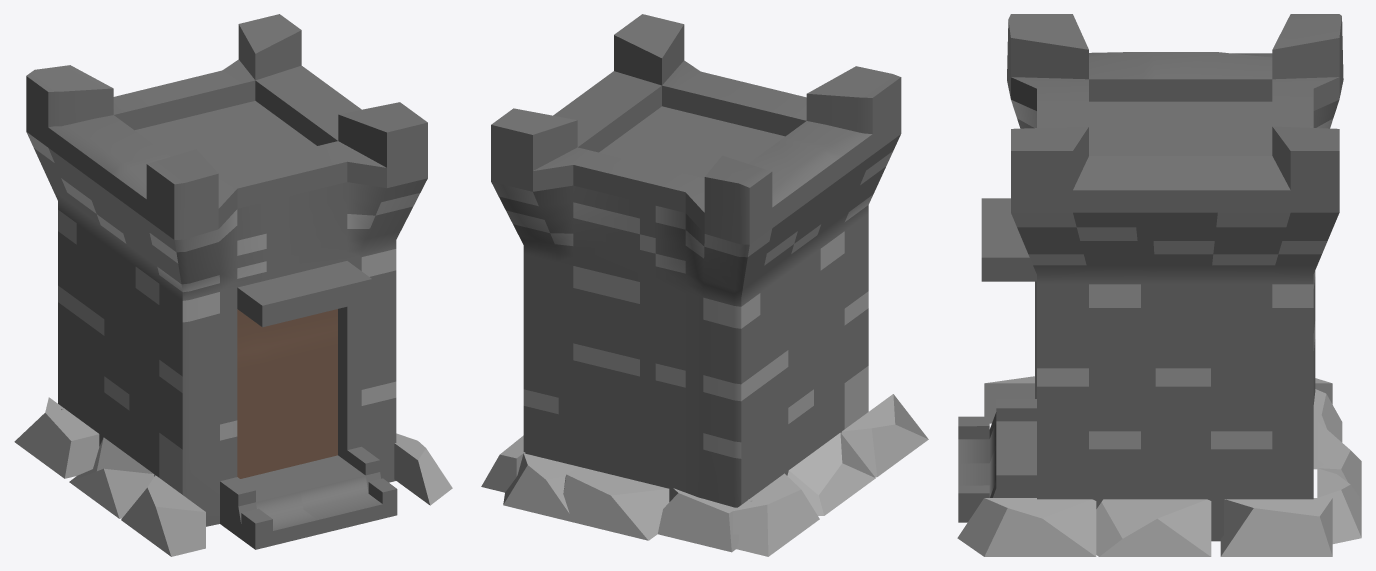
File: Building_2.fbx
The picture shows the model from 3 angles, left to right: view 1: azimuth 30°, elevation 25°; view 2: azimuth 150°, elevation 25°; view 3: azimuth 270°, elevation 25°; orthographic projection. The views are drawn at different scales.
Visible parts, largest first — view 1: Building_2; view 2: Building_2; view 3: Building_2.
Boxes of the visible parts, box(x1,y1,x2,y2) form: Building_2: box(14, 14, 452, 556); Building_2: box(481, 14, 928, 556); Building_2: box(957, 14, 1361, 556).
Bounding box in the file's own units: 43.83 × 54.62 × 49.23.
